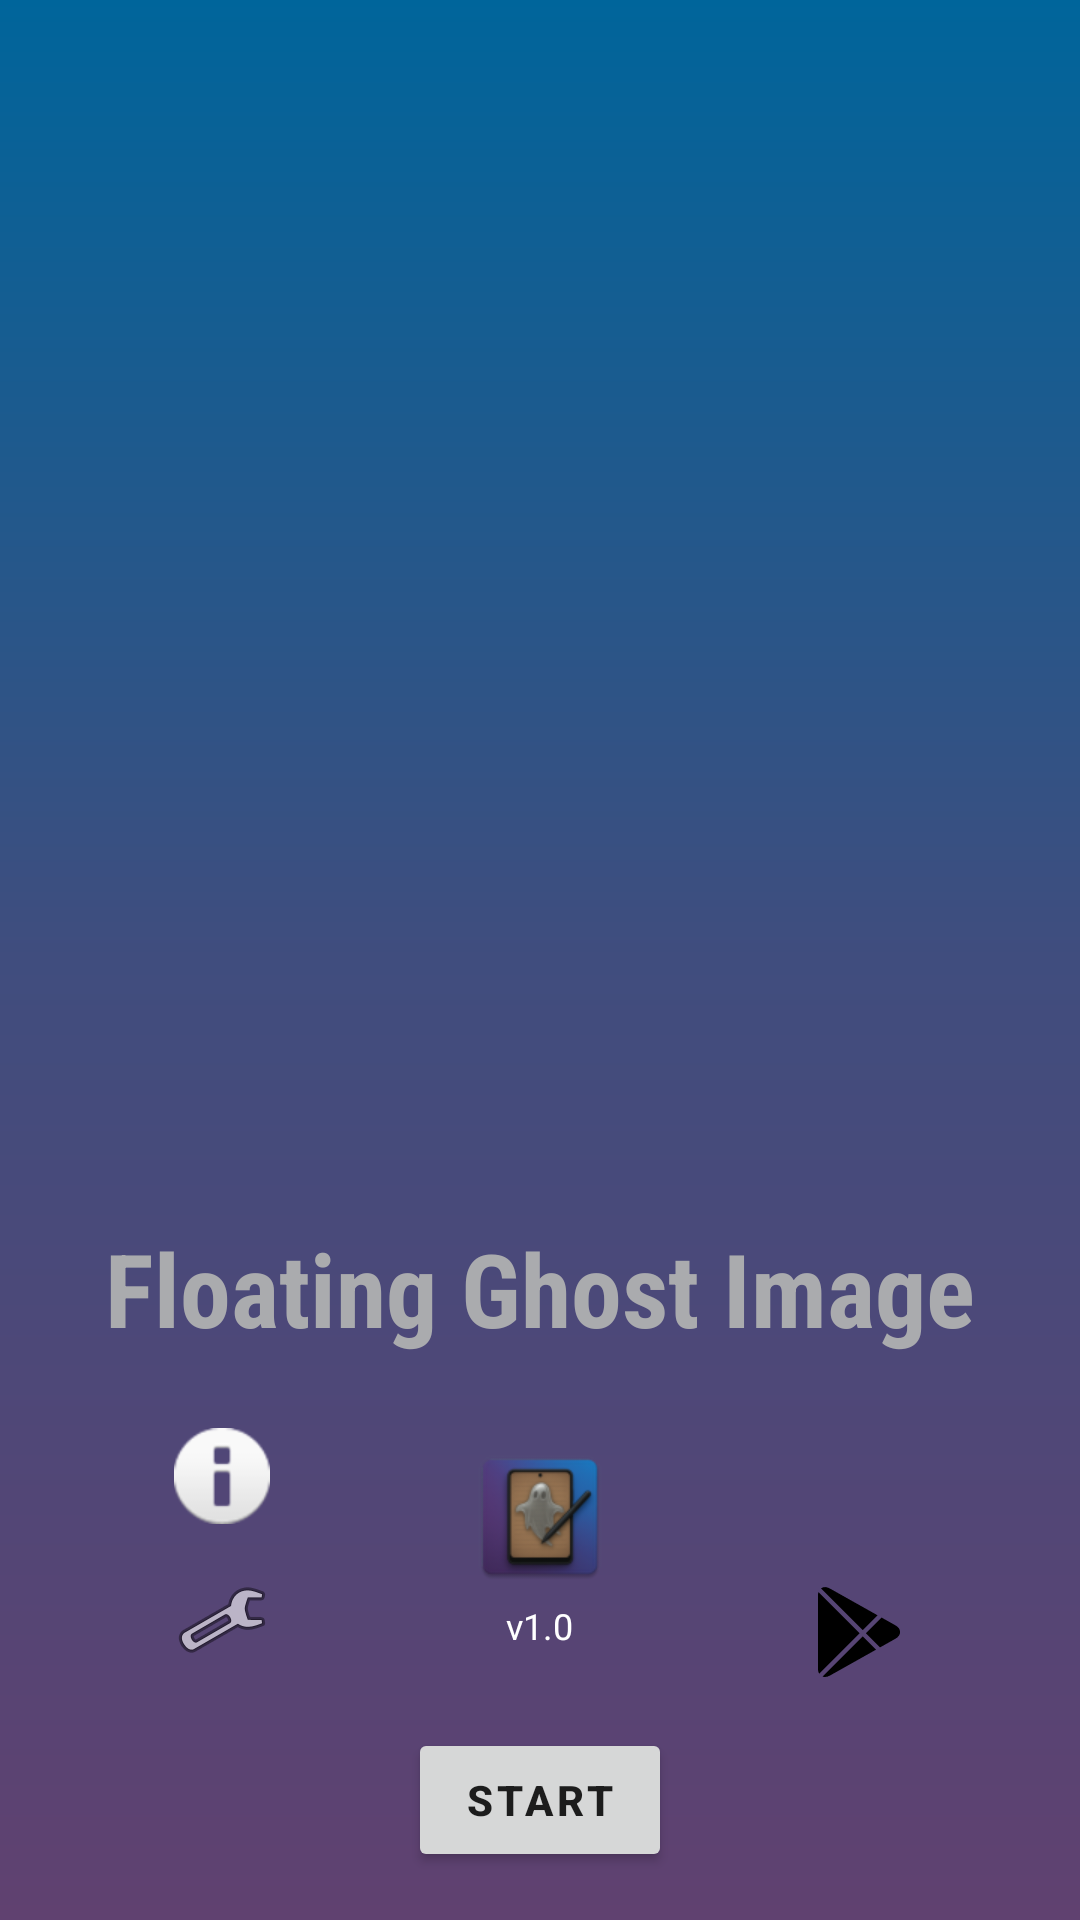

Screen size 1080*1920. Icon name, then its center in pixels as (x,y):
Documentation: (222,1476)
Overlay permission settings: (222,1620)
